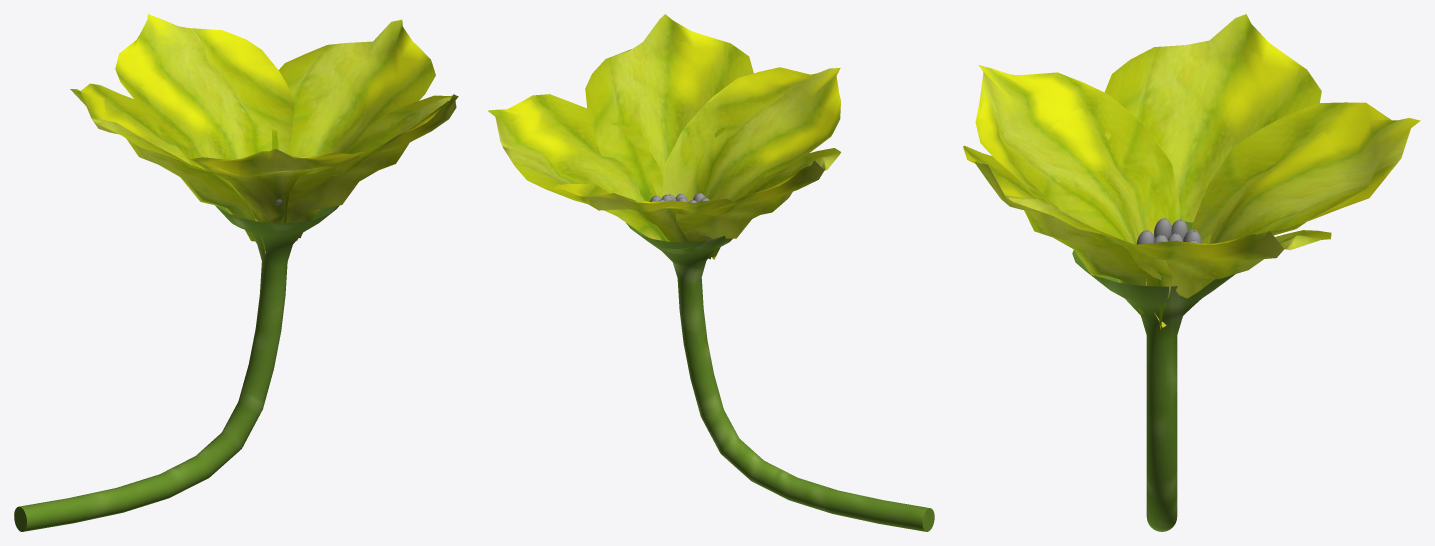
Rendered from flower1.FBX.
3 renders of one model, left to right at view 1: azimuth 30°, elevation 25°; view 2: azimuth 150°, elevation 25°; view 3: azimuth 270°, elevation 25°, orthographic. The views are drawn at different scales.
Visible parts, largest first — view 1: flower0, Loft001, Plane004; view 2: flower0, Plane004, Loft001; view 3: flower0, Plane004, Loft001.
Part boxes in pixels (<box>): flower0: <box>70,14,458,253</box>; Loft001: <box>14,204,339,531</box>; Plane004: <box>186,149,364,223</box>; flower0: <box>488,14,840,259</box>; Plane004: <box>662,67,840,201</box>; Loft001: <box>626,223,934,531</box>; flower0: <box>963,14,1420,329</box>; Plane004: <box>975,65,1179,327</box>; Loft001: <box>1072,221,1234,531</box>.
Bounding box in the file's own units: 95.72 × 87.88 × 74.93.
